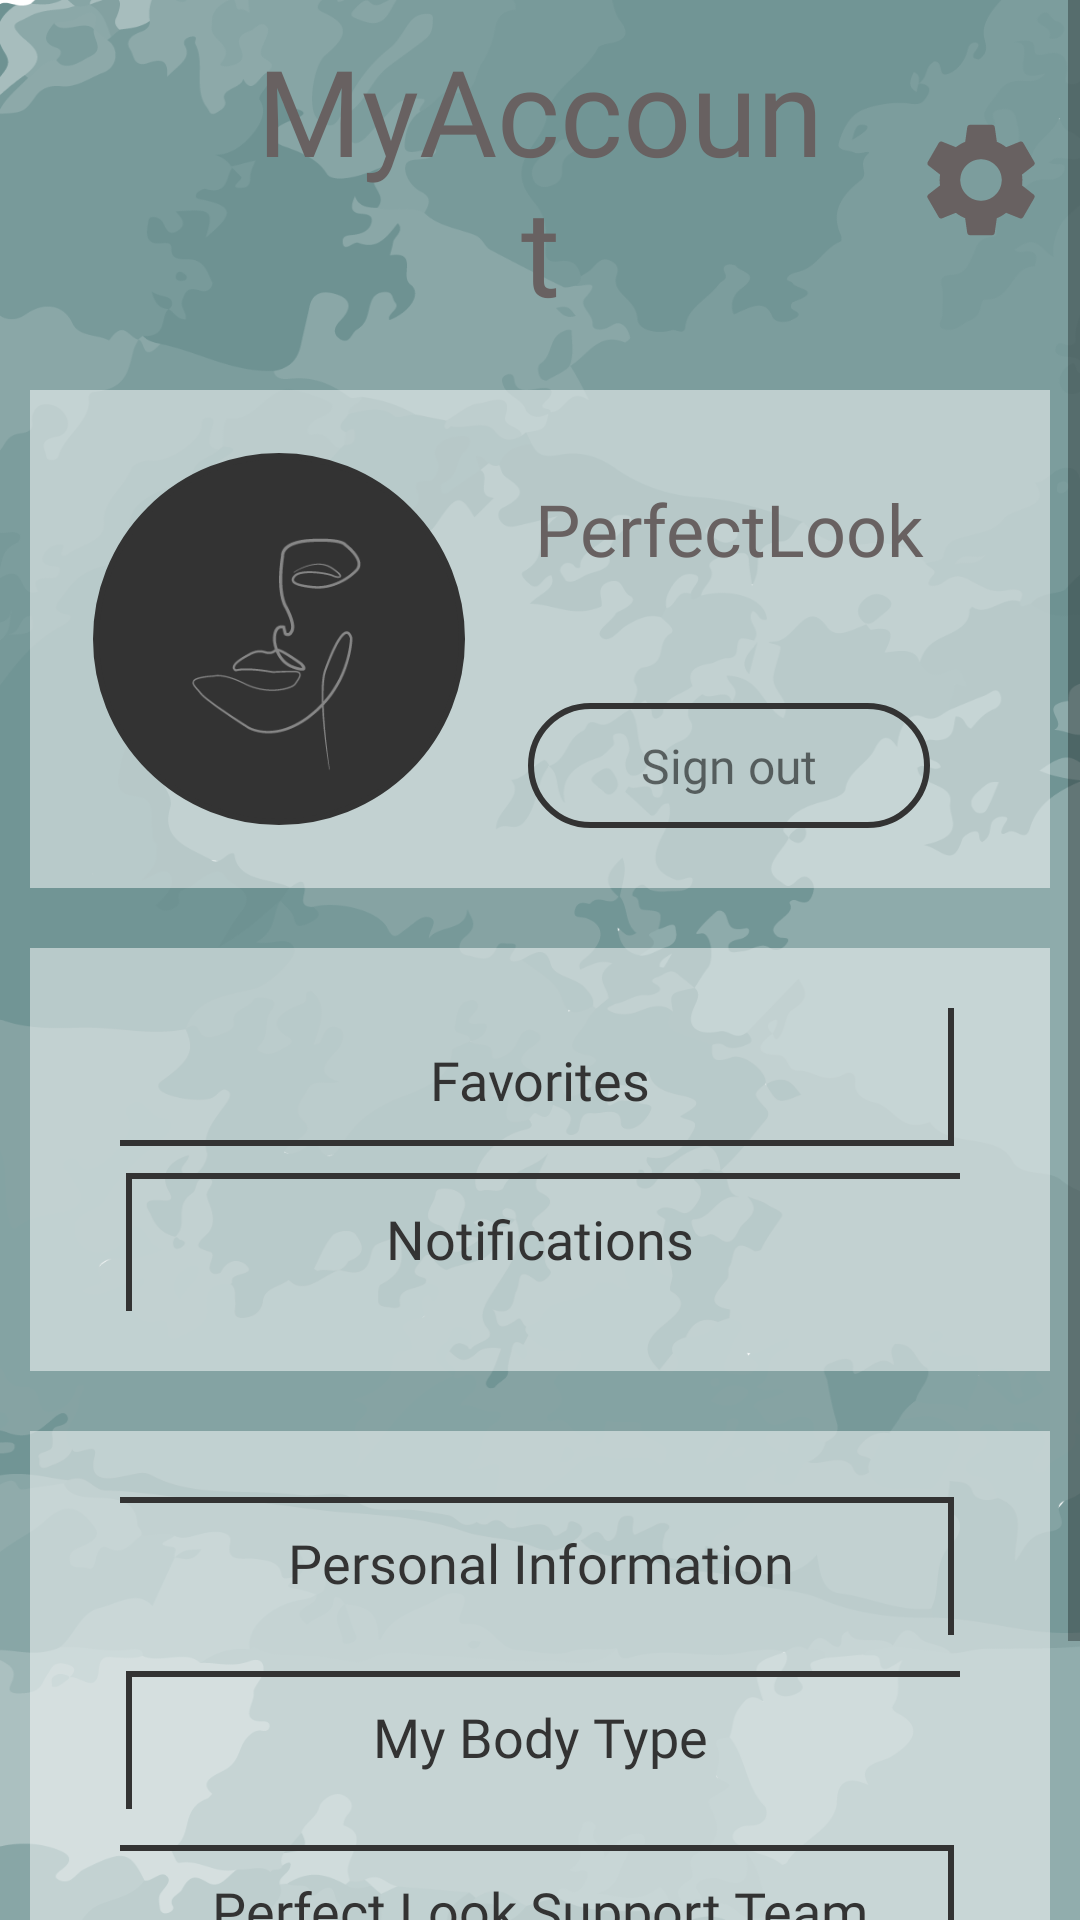

Where to tap for icons on this 1080 × 1920 app screen, as (x=x, y=y):
settings: (x=981, y=180)
